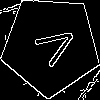V: (26, 20, 81, 74)
